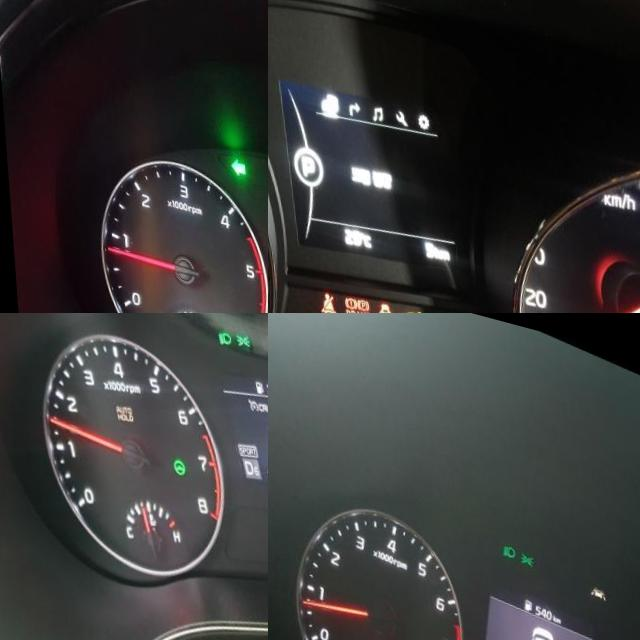Doors: (370, 282, 386, 307)
LaneCenteringOff: (585, 562, 602, 580)
Low beam: (211, 313, 227, 330), (497, 526, 512, 544)
SideLamp: (230, 313, 246, 330), (514, 534, 530, 550)
